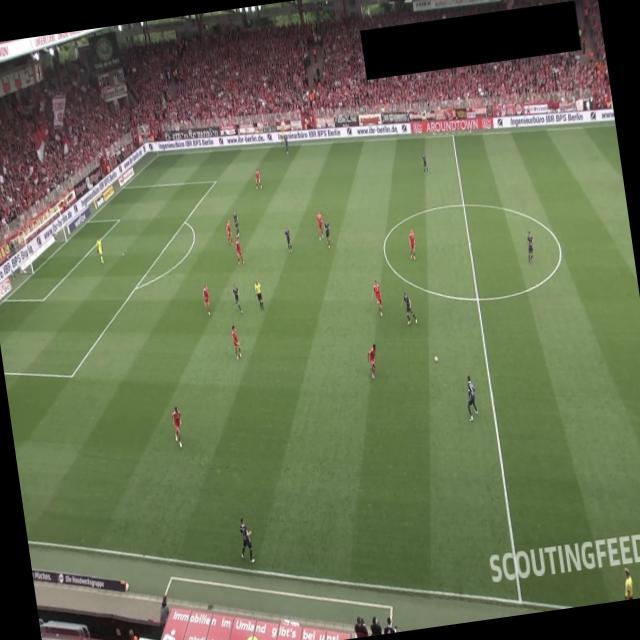ball: (434, 354, 438, 362)
goalkeeper: (95, 235, 105, 265)
player: (236, 516, 256, 564), (463, 374, 480, 421), (398, 290, 418, 326), (170, 406, 186, 448), (370, 278, 384, 318), (366, 343, 380, 380), (230, 324, 242, 360), (524, 230, 536, 264), (406, 228, 418, 262), (231, 282, 243, 314), (234, 236, 245, 266), (316, 210, 326, 242), (202, 284, 212, 316), (323, 219, 332, 249), (224, 219, 233, 246), (284, 226, 293, 252), (421, 152, 430, 175), (232, 210, 240, 235), (254, 168, 262, 190), (282, 133, 290, 154)
referee: (620, 566, 635, 600), (253, 278, 264, 311)
